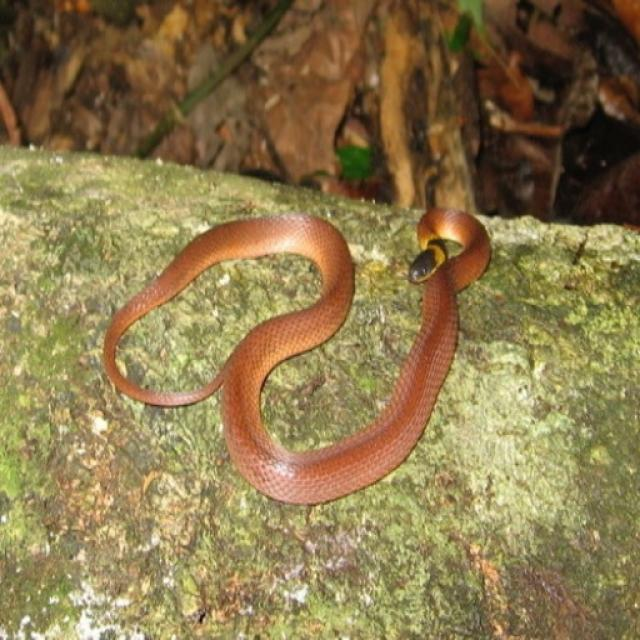snake: (94, 202, 537, 501)
